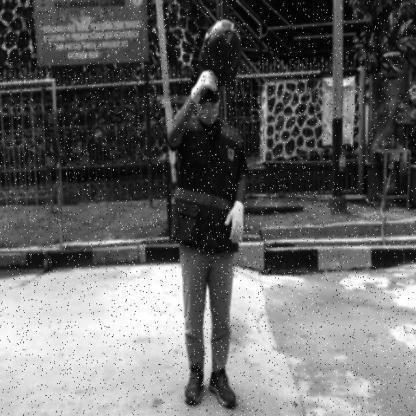boots: (207, 366, 238, 410), (182, 366, 204, 410)
gloves: (222, 198, 247, 246), (186, 72, 220, 102)
helmet: (201, 16, 244, 84)
mask: (194, 101, 222, 130)
